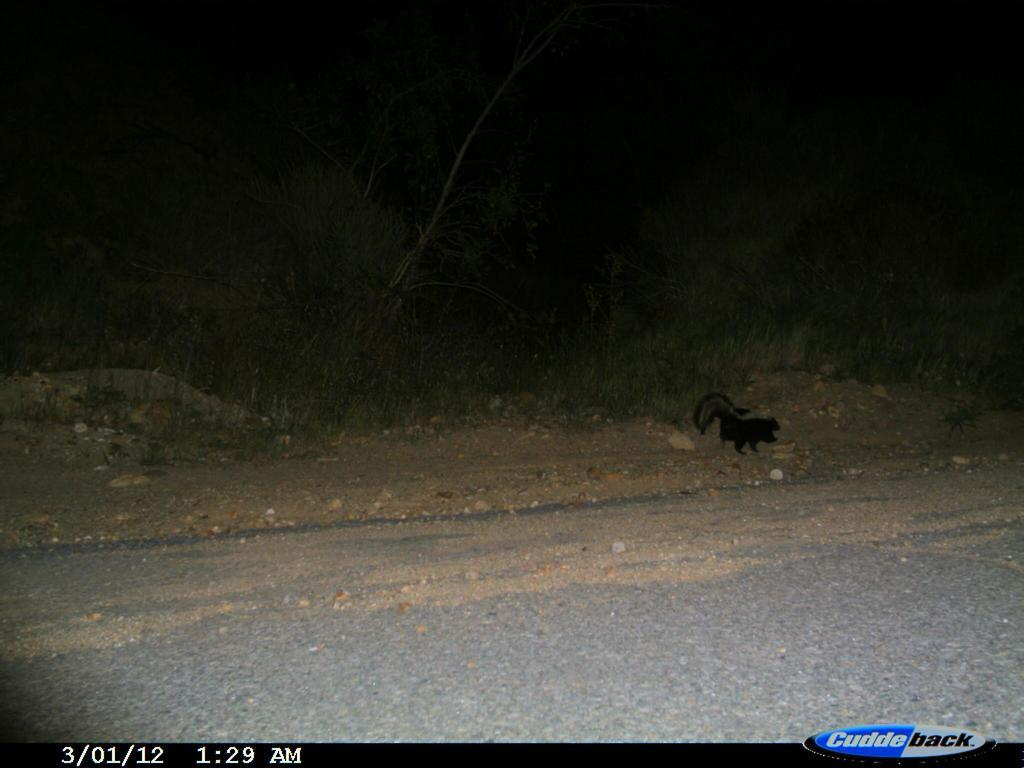skunk: (684, 383, 798, 461)
